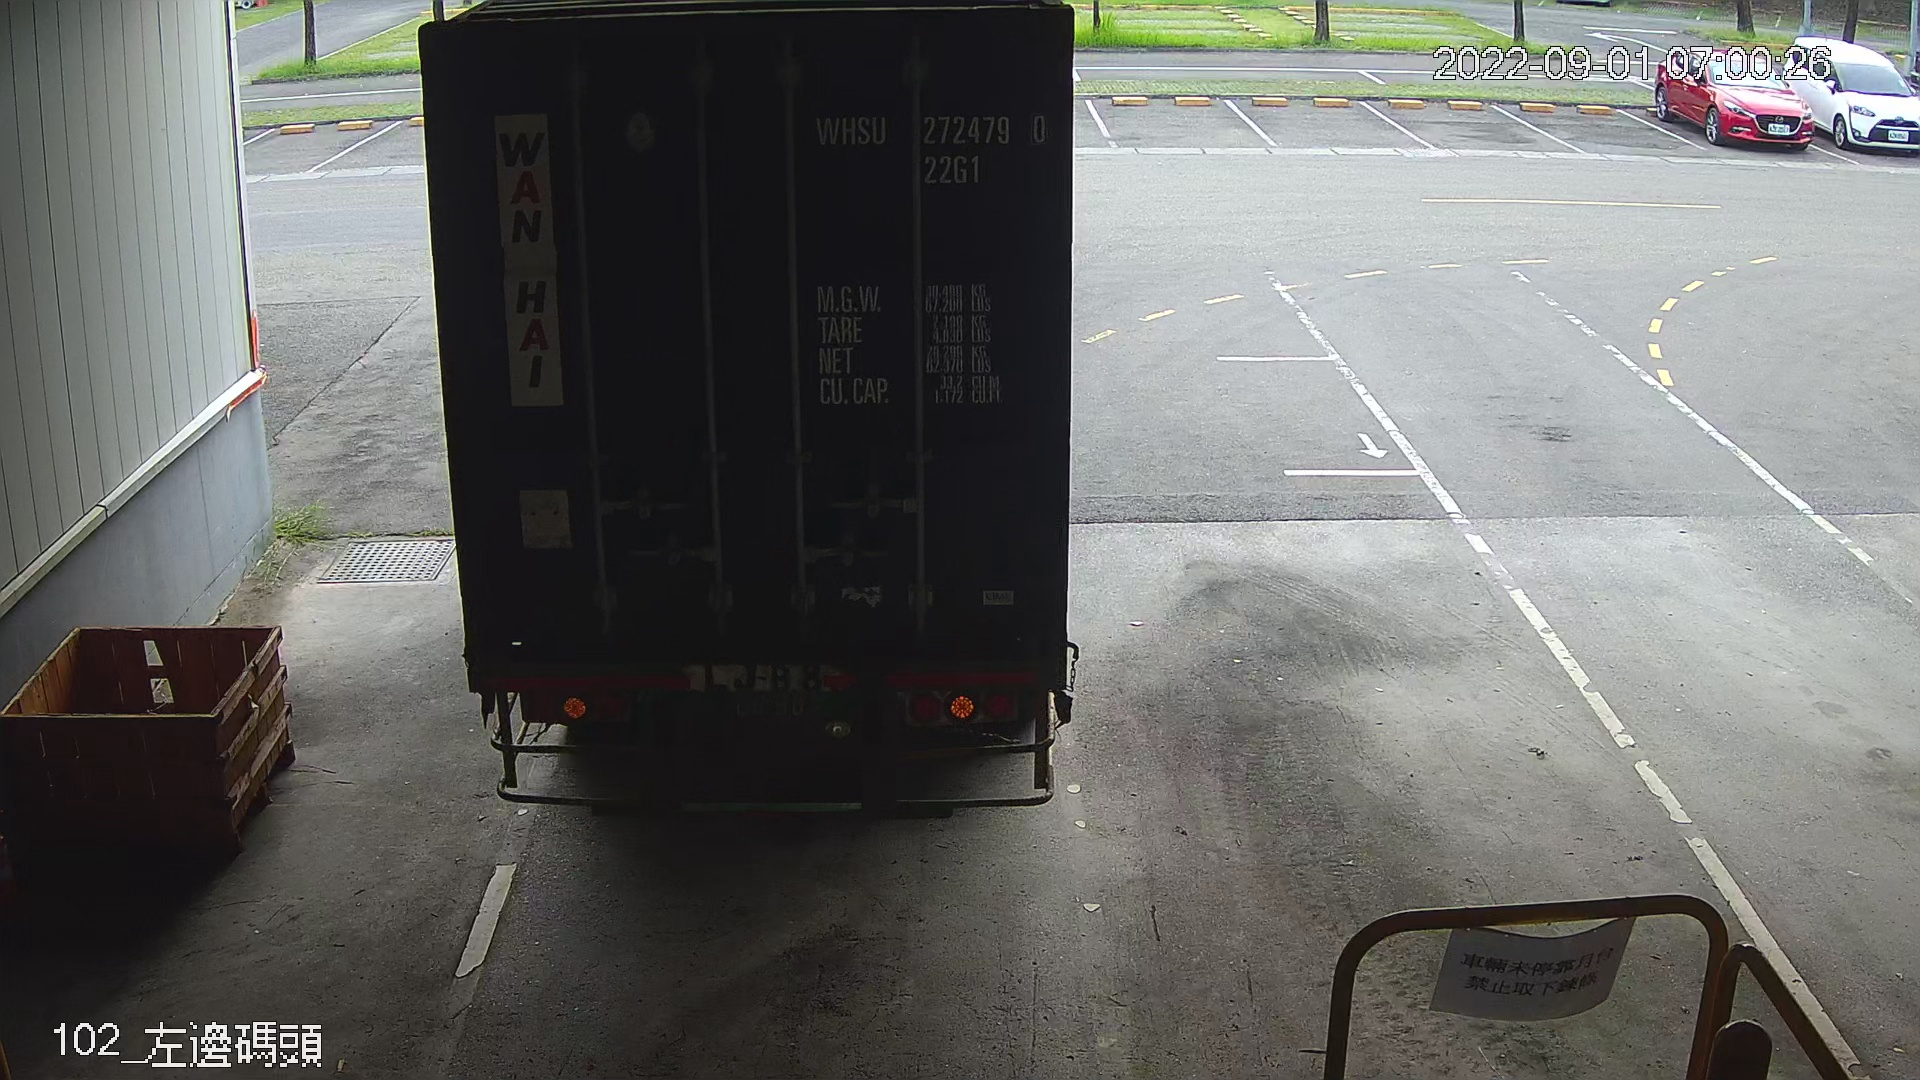container: (803, 98, 1060, 194)
